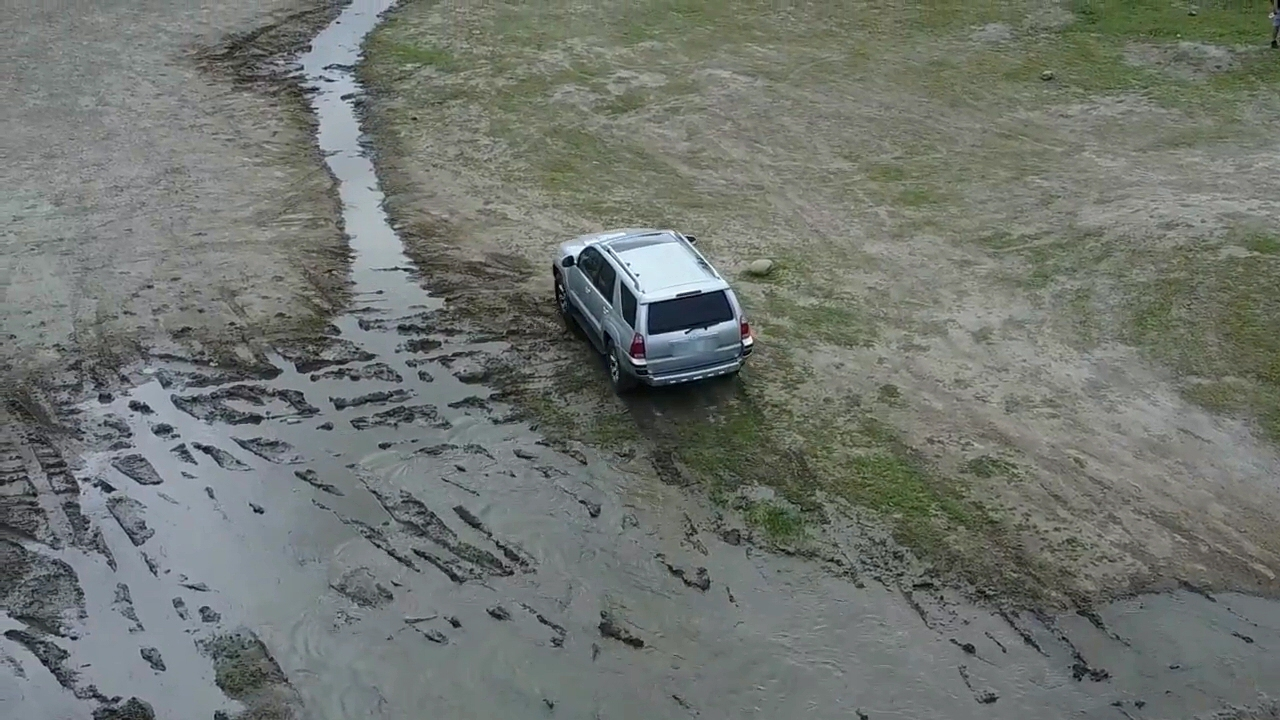araba: (549, 223, 755, 390)
